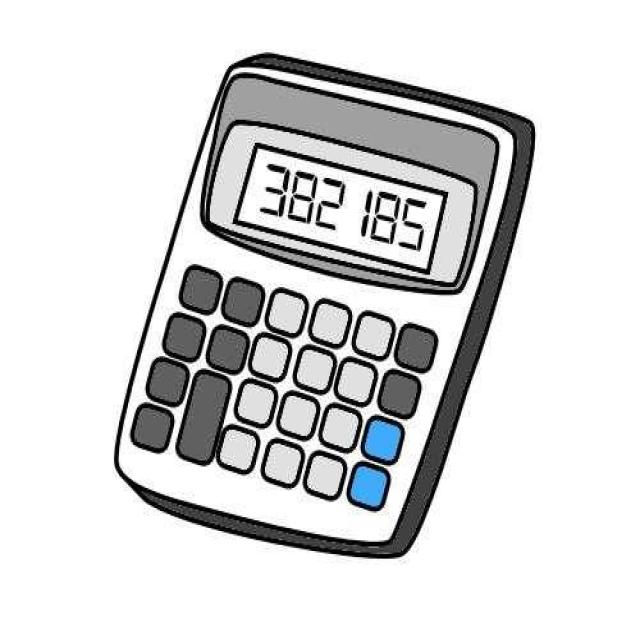Calculator: (113, 49, 536, 559)
